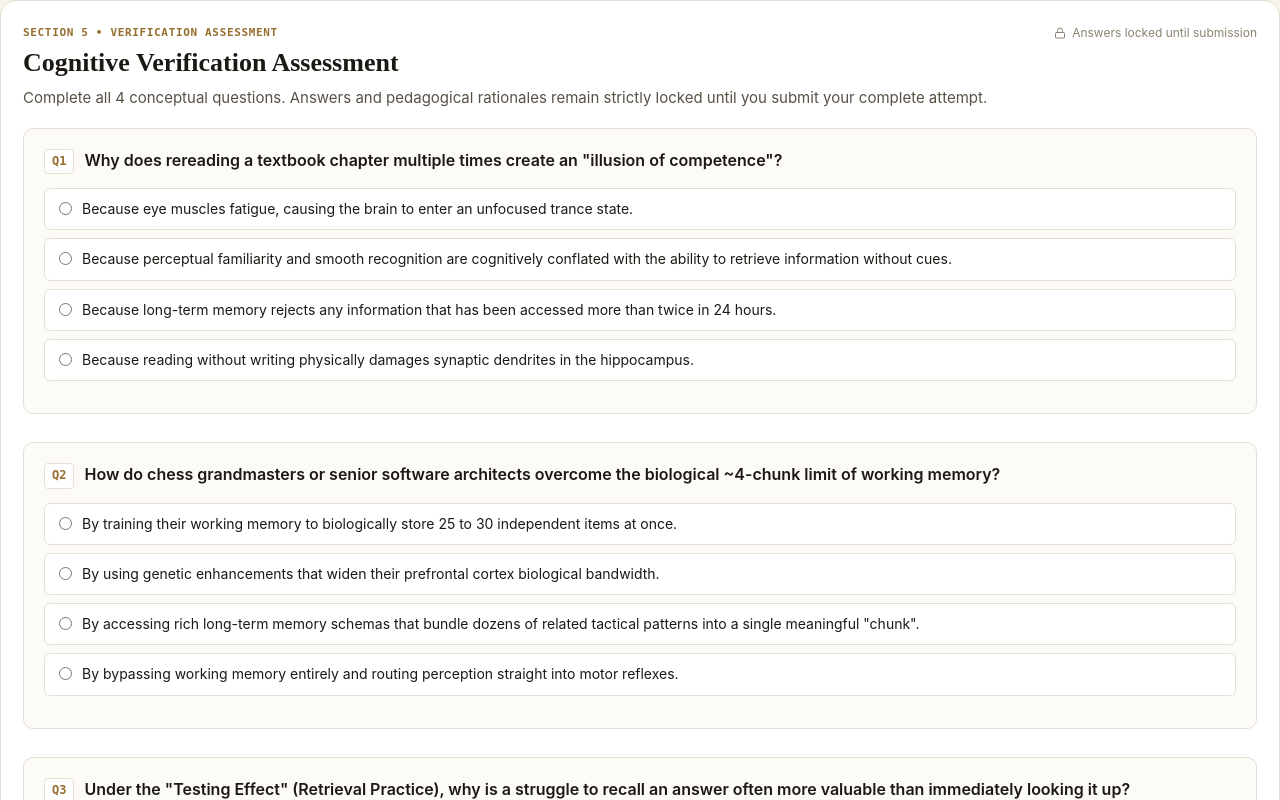
Test: QuizSection Component › grades answers and reveals pedagogical rationales only after submission
// Answer Q1: option q1-b
Click the radio button showing "q1-b" at [66, 259], box [59,252,72,266]
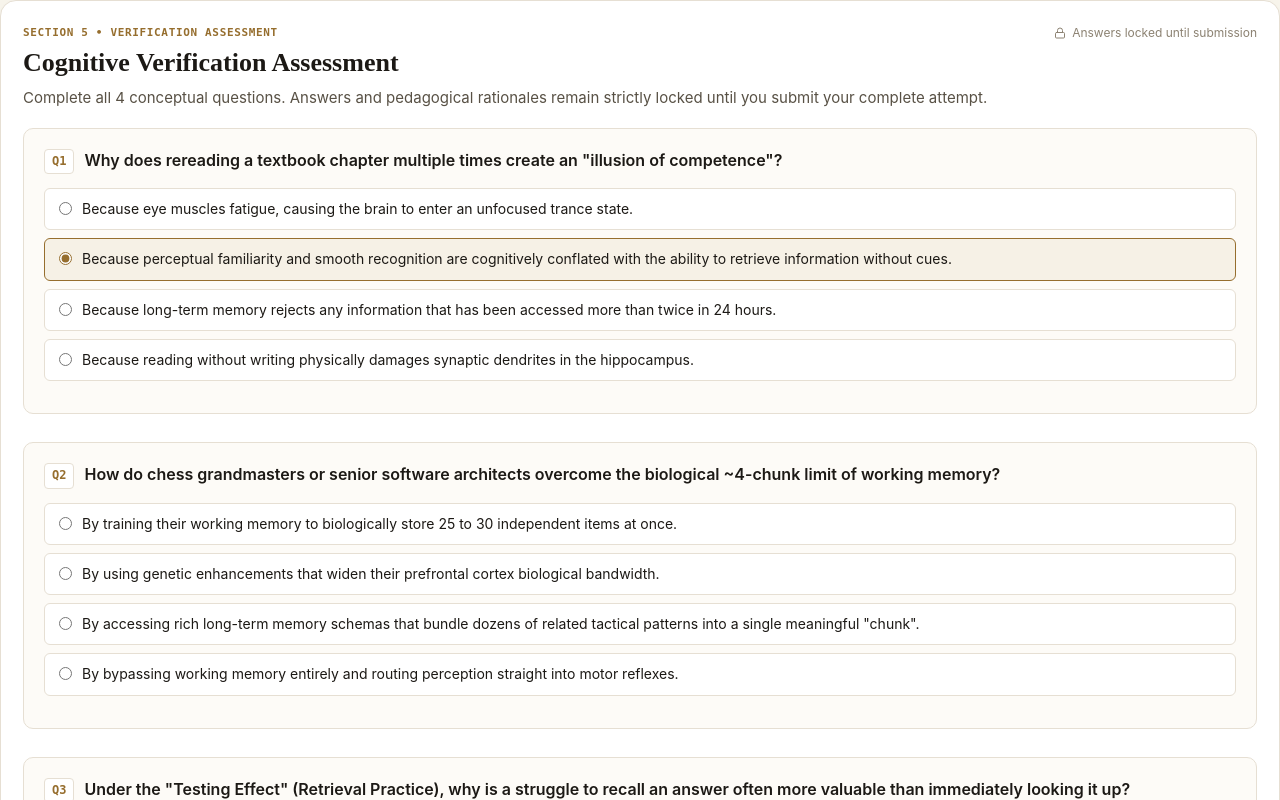
// Answer Q2: option q2-c
Click the radio button showing "q2-c" at [66, 624], box [59,617,72,630]
(page scrolled)
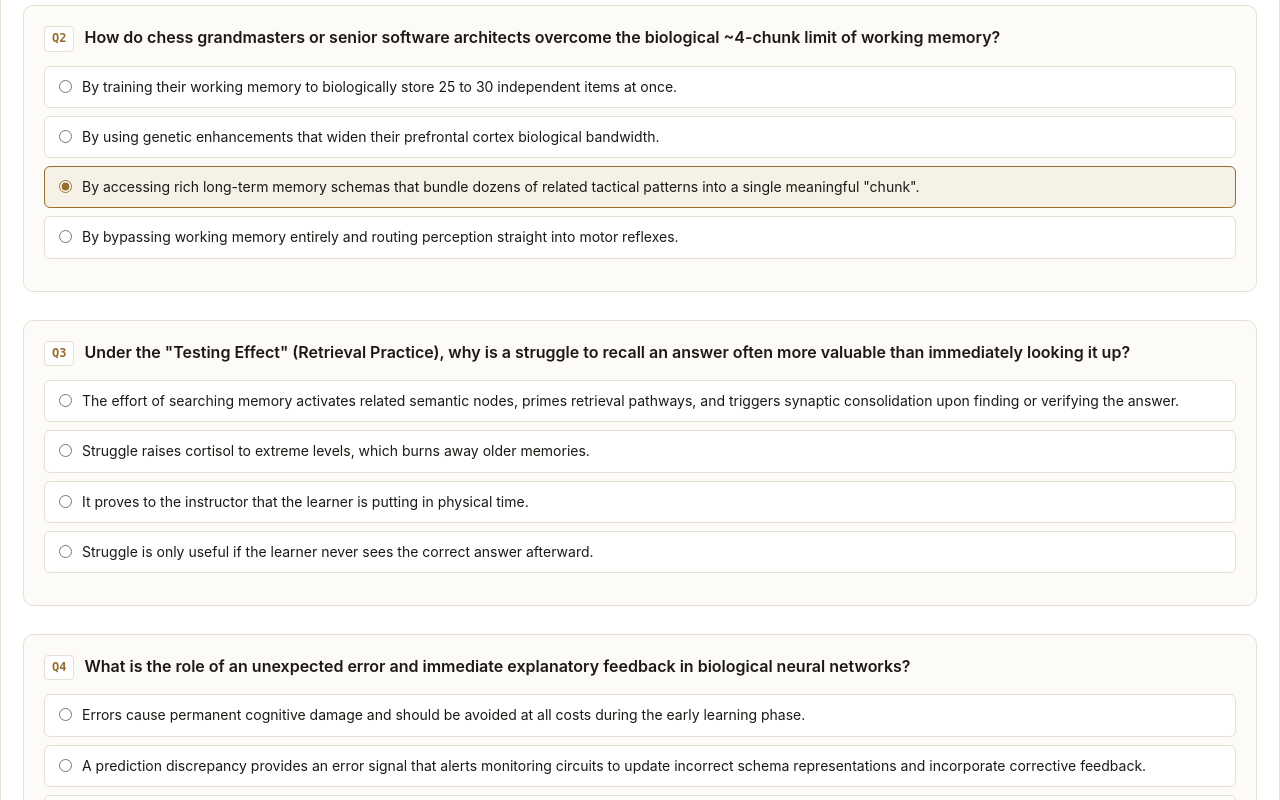
// Answer Q3: option q3-a
Click the radio button showing "q3-a" at [66, 400], box [59,394,72,407]
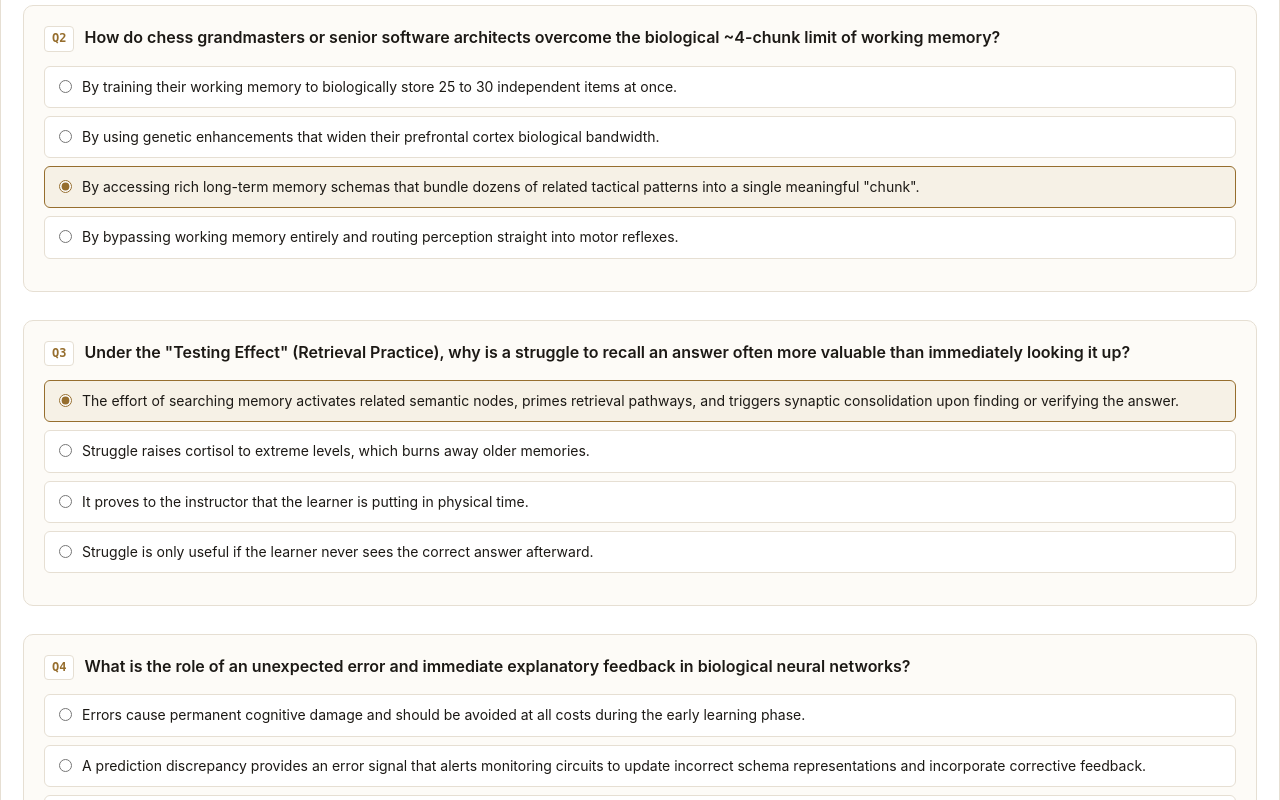
// Answer Q4: option q4-b
Click the radio button showing "q4-b" at [66, 765], box [59,759,72,772]
(page scrolled)
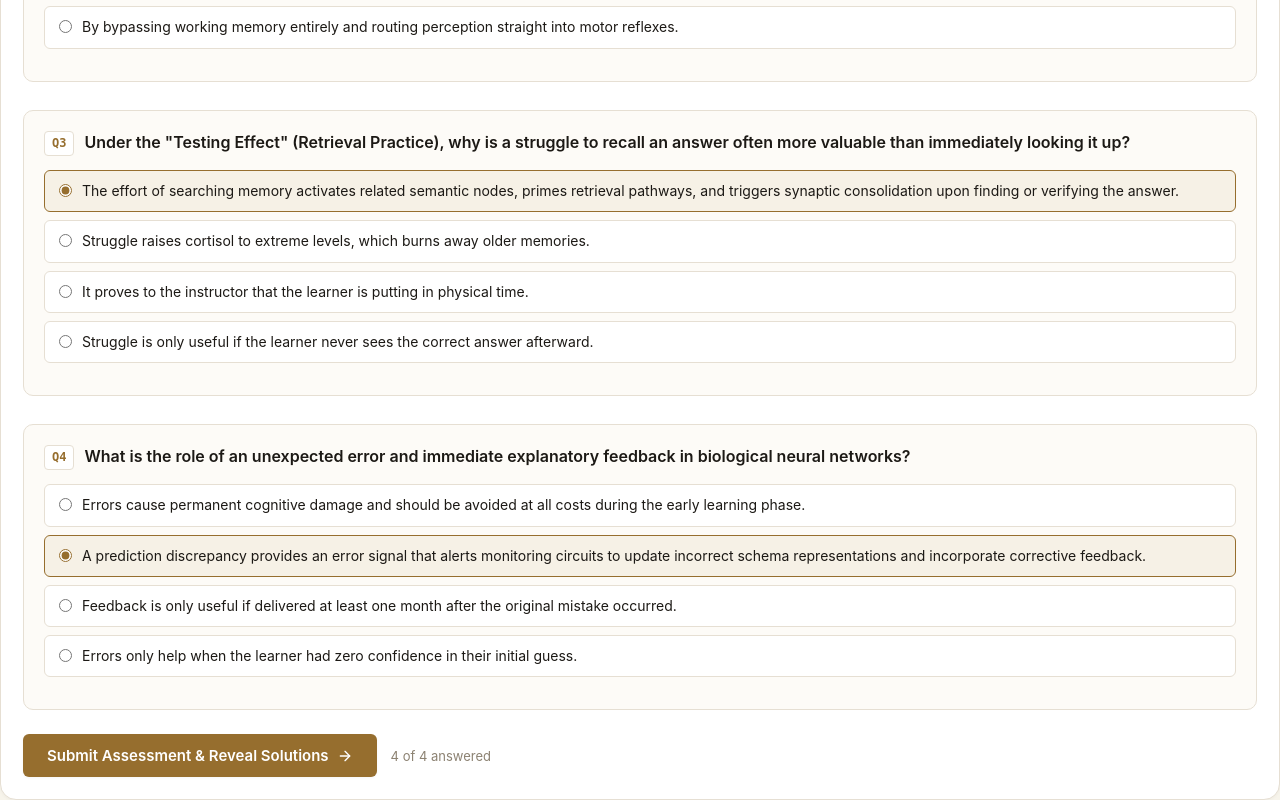
Expected: the button "Submit Assessment & Reveal Solutions" is enabled
Click the button "Submit Assessment & Reveal Solutions" at [200, 756], box [23,734,377,778]
(page scrolled)
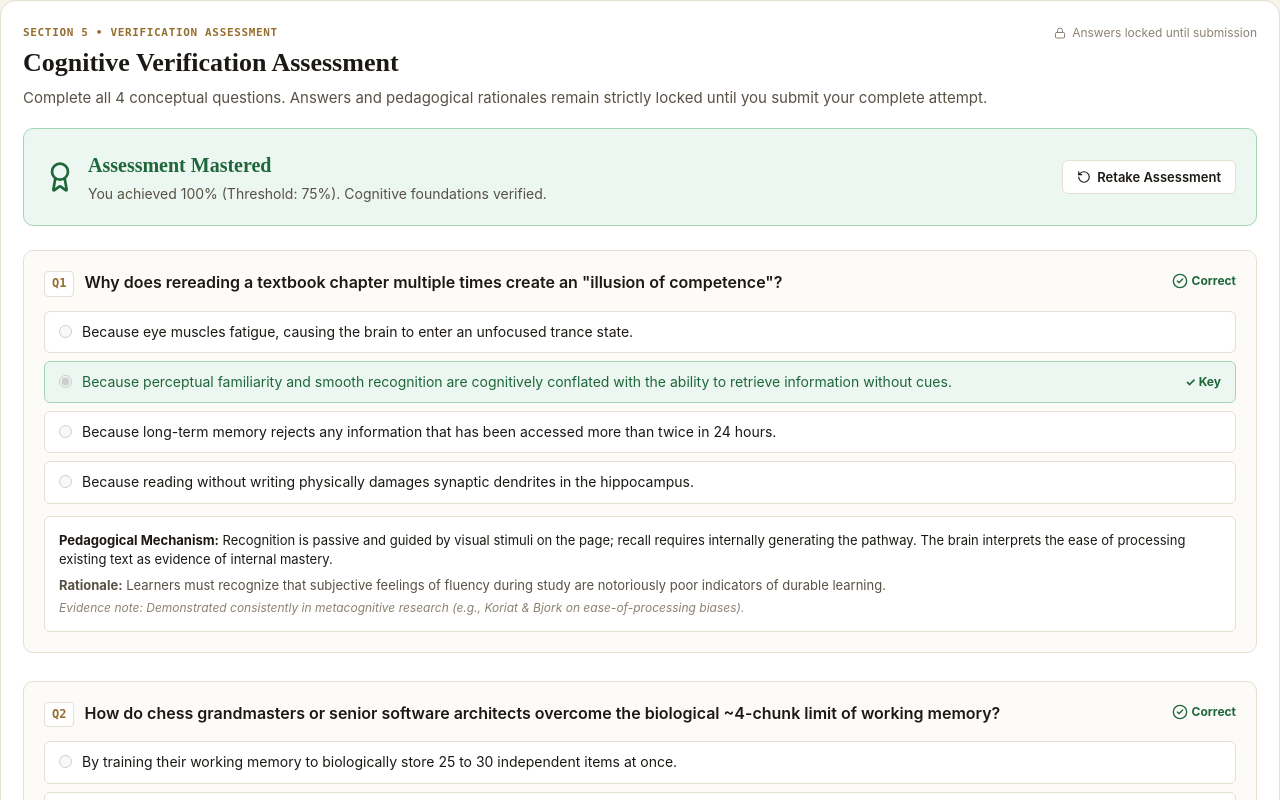
Expected: the heading "Assessment Mastered" is shown, [88,154,272,176]
Expected: the text "You achieved 100%" is shown, [88,185,547,202]
Expected: the text "Pedagogical Mechanism:" is shown 4 times
